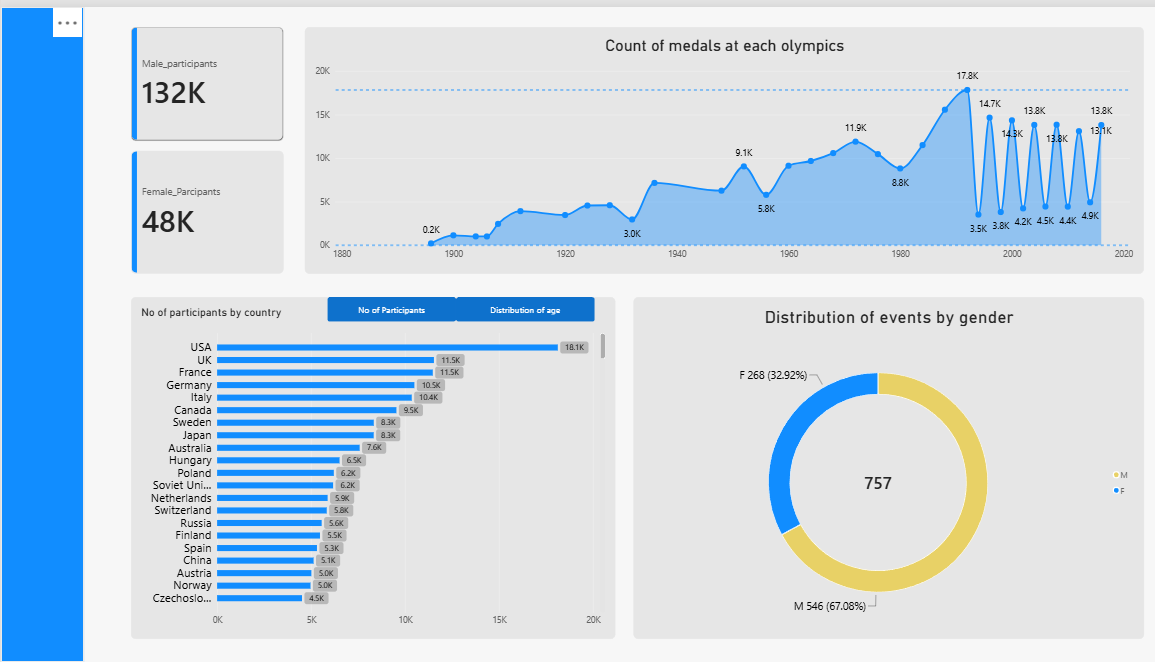

The page's visual inventory and layout, read from the dashboard file:
{"tool":"powerbi","page":{"name":"Page 3","canvas":[1920,1080],"ordinal":2},"visuals":[{"type":"donutChart","title":"Distribution of events by gender","fields":{"Y":["Count(consolidated_fact.event_name)"],"Category":["consolidated_fact.person_gender"]},"box":[1040.8,477.6,840.8,563.3],"z":0},{"type":"shape","box":[0,0,136.7,1079.6],"z":1000},{"type":"cardVisual","fields":{"Data":["MTable.Male_participants"]},"box":[214.3,32.7,251,187.8],"z":2000},{"type":"cardVisual","fields":{"Data":["MTable.Female_Parcipants"]},"box":[214.3,236.7,251,202],"z":3000},{"type":"clusteredBarChart","title":"No of participants by country","fields":{"Category":["consolidated_fact.region_name"],"Y":["CountNonNull(consolidated_fact.games_competitor_id)"]},"box":[214.3,477.6,798,563.3],"z":4000},{"type":"actionButton","box":[536.7,477.6,212.2,40.8],"z":6000},{"type":"actionButton","box":[749,477.6,228.6,40.8],"z":7000},{"type":"lineChart","title":"Count of medals at each olympics","fields":{"Category":["consolidated_fact.games_year"],"Y":["CountNonNull(consolidated_fact.medal_name)"]},"box":[500,32.7,1381.6,406.1],"z":8000}]}

Visuals, with their boxes on the page's 1920x1080 design canvas (x1, y1, x2, y2). These are canvas units, not pixel positions in the 1155x662 screenshot, which may show the page scaled, cropped or inside an application window:
"Distribution of events by gender" donutChart: {"left": 1041, "top": 478, "right": 1882, "bottom": 1041}
shape: {"left": 0, "top": 0, "right": 137, "bottom": 1080}
cardVisual - MTable.Male_participants: {"left": 214, "top": 33, "right": 465, "bottom": 220}
cardVisual - MTable.Female_Parcipants: {"left": 214, "top": 237, "right": 465, "bottom": 439}
"No of participants by country" clusteredBarChart: {"left": 214, "top": 478, "right": 1012, "bottom": 1041}
actionButton: {"left": 537, "top": 478, "right": 749, "bottom": 518}
actionButton: {"left": 749, "top": 478, "right": 978, "bottom": 518}
"Count of medals at each olympics" lineChart: {"left": 500, "top": 33, "right": 1882, "bottom": 439}
